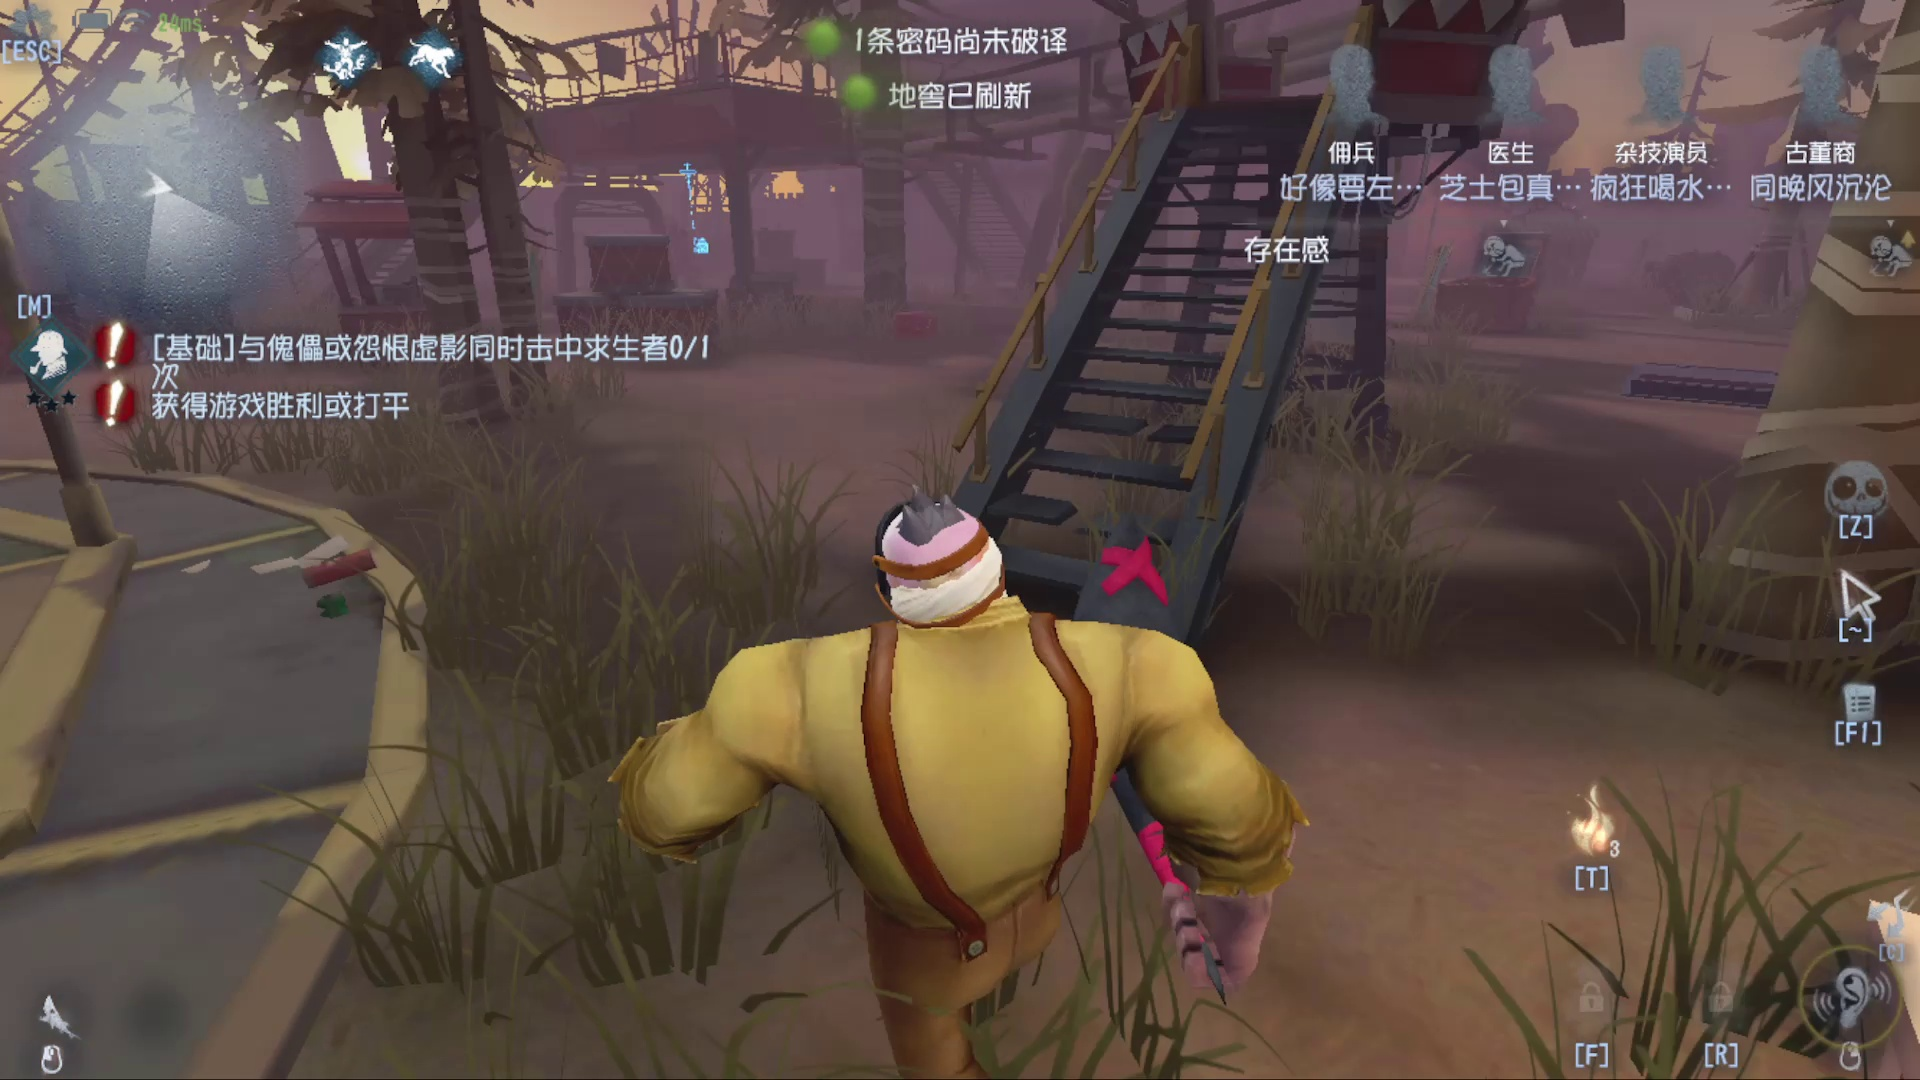密码机: (662, 161, 733, 261)
木板: (1419, 229, 1455, 334), (1619, 231, 1652, 331)
